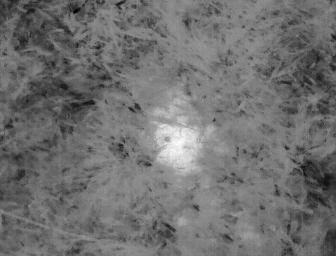landmine: (149, 104, 209, 172)
